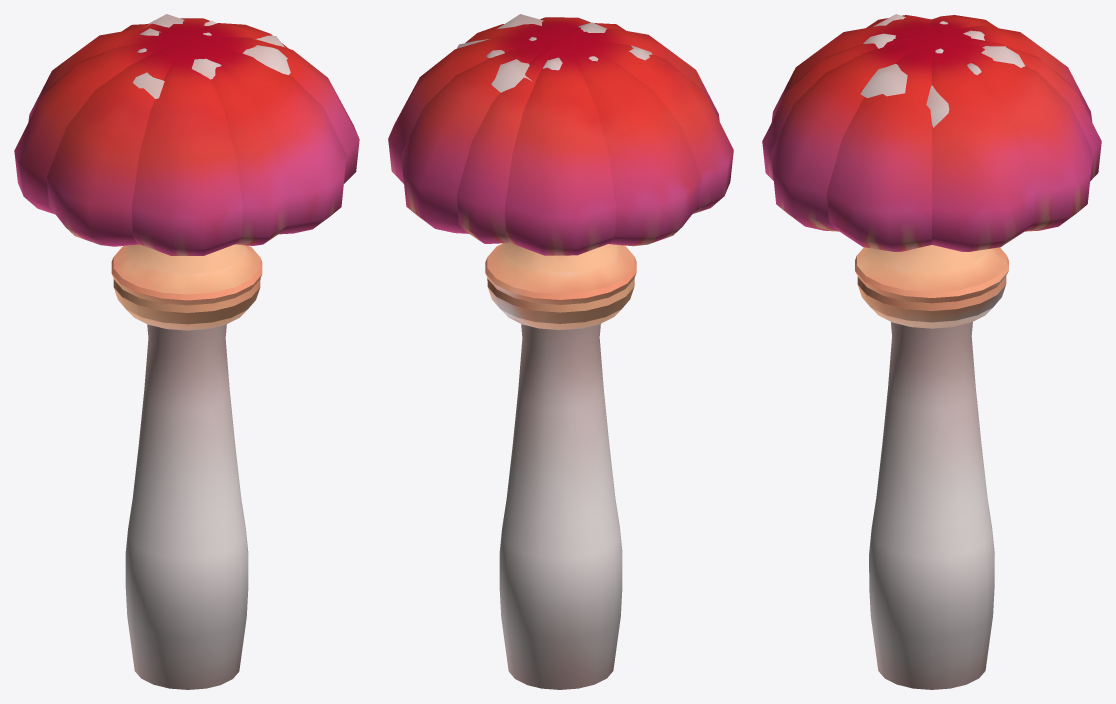
The model's file is Long_mushroom.fbx.
The picture shows the model from 3 angles, left to right: view 1: azimuth 30°, elevation 25°; view 2: azimuth 150°, elevation 25°; view 3: azimuth 270°, elevation 25°; orthographic projection.
Visible parts, largest first — view 1: Object001, Object002, Cylinder002; view 2: Object001, Object002, Cylinder002; view 3: Object001, Object002, Cylinder002.
Boxes of the visible parts, bbox=[...] form: Object001: bbox=[14, 18, 359, 255]; Object002: bbox=[111, 244, 262, 689]; Cylinder002: bbox=[132, 14, 290, 98]; Object001: bbox=[388, 17, 733, 255]; Object002: bbox=[485, 243, 636, 689]; Cylinder002: bbox=[457, 14, 652, 92]; Object001: bbox=[762, 15, 1101, 251]; Object002: bbox=[855, 245, 1008, 689]; Cylinder002: bbox=[860, 14, 1024, 127].
Size of the model in its own units: 3.08 by 6.36 by 3.1.
